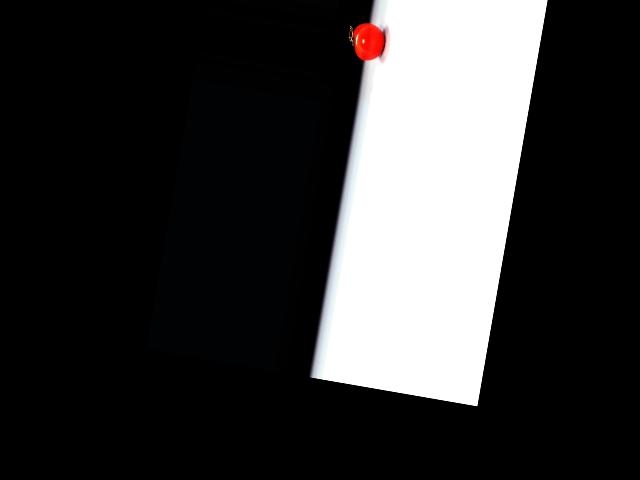tomato: (349, 21, 387, 63)
